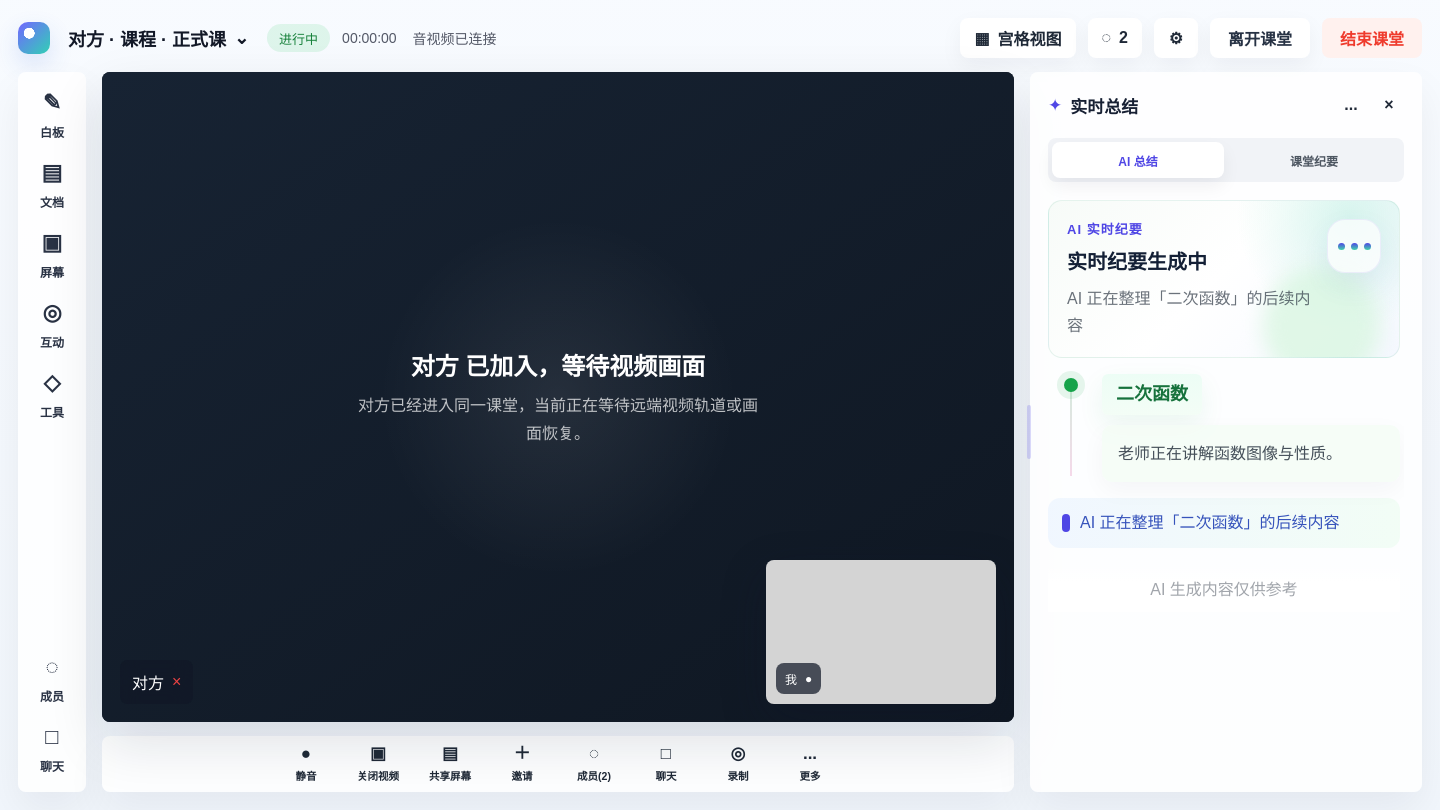
Test: LiveClassroomPage › switches to whiteboard mode with video dock and compact scrollable AI panel
The image size is (1440, 810).
Click the button with test id "classroom-open-whiteboard": (52, 115) [28,86,76,144]
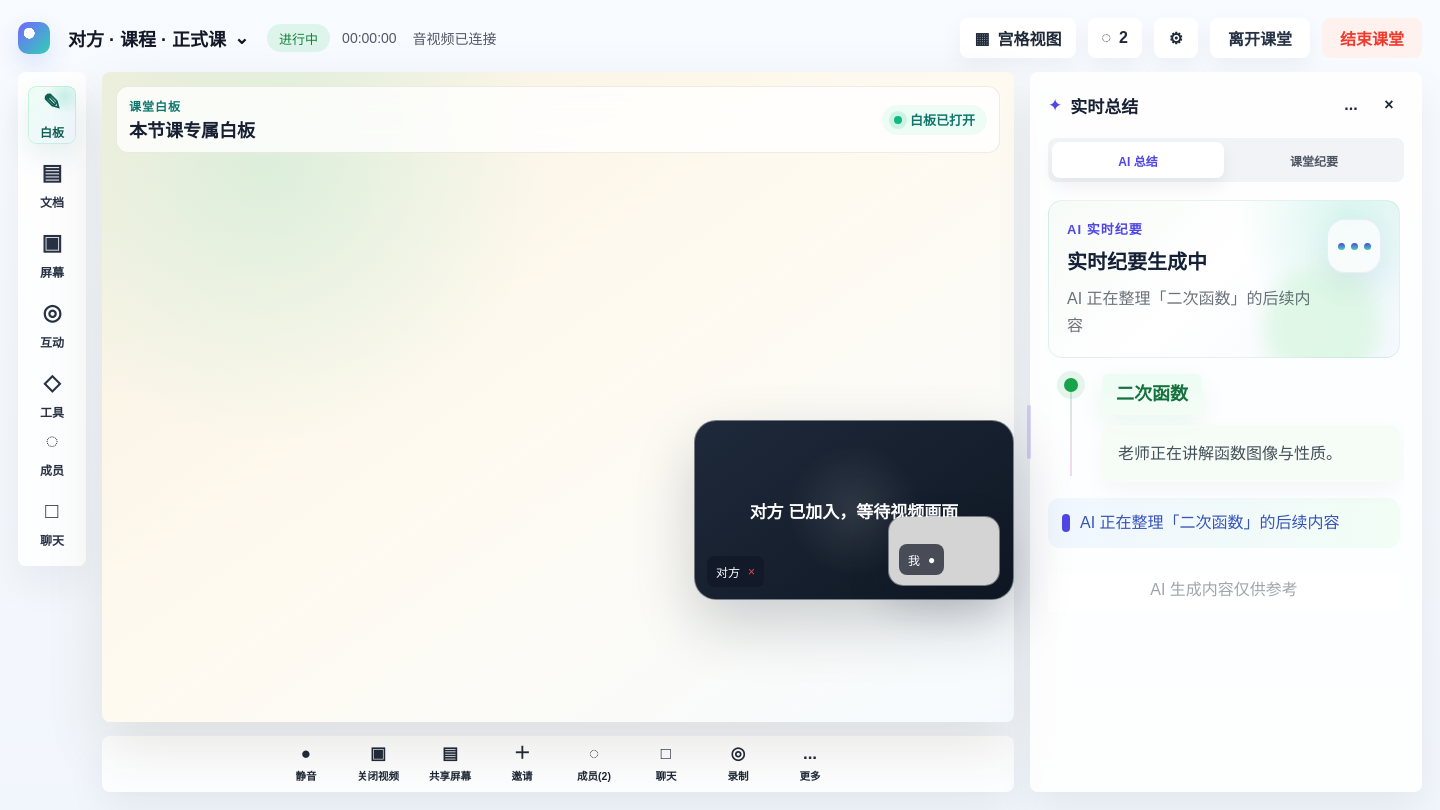
Now the element with test id "live-whiteboard-stage" is shown, box [116,86,1000,153]
Now the element with test id "live-whiteboard-panel" is shown, box [116,163,1000,708]
